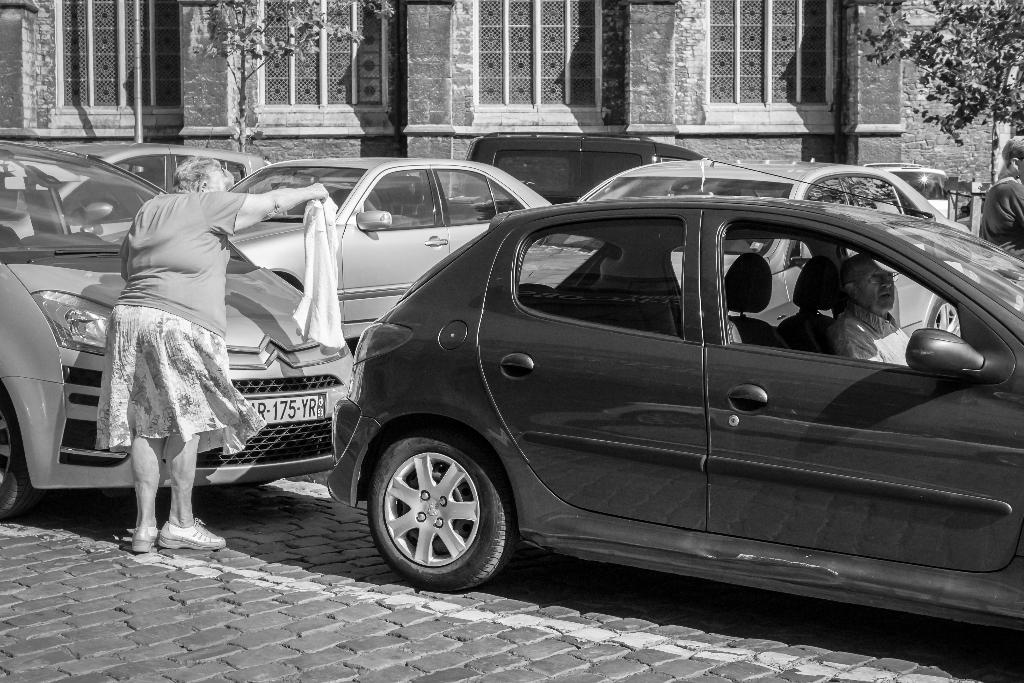Tree: (831, 1, 1023, 157)
